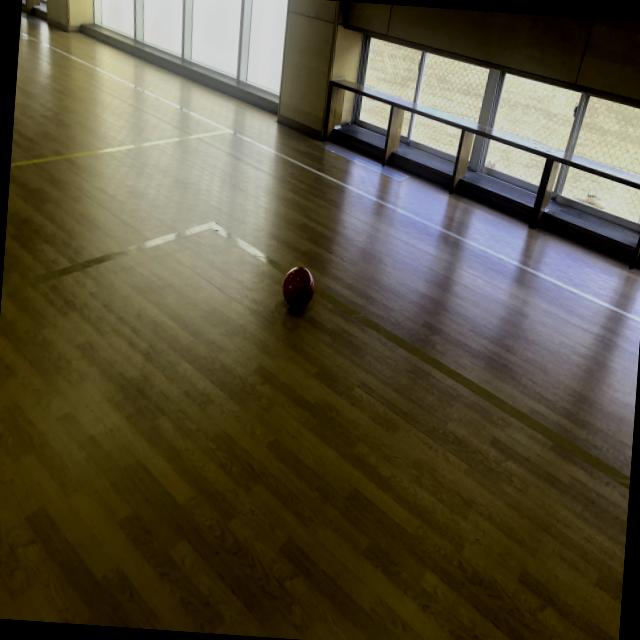red_ball: (280, 264, 316, 312)
